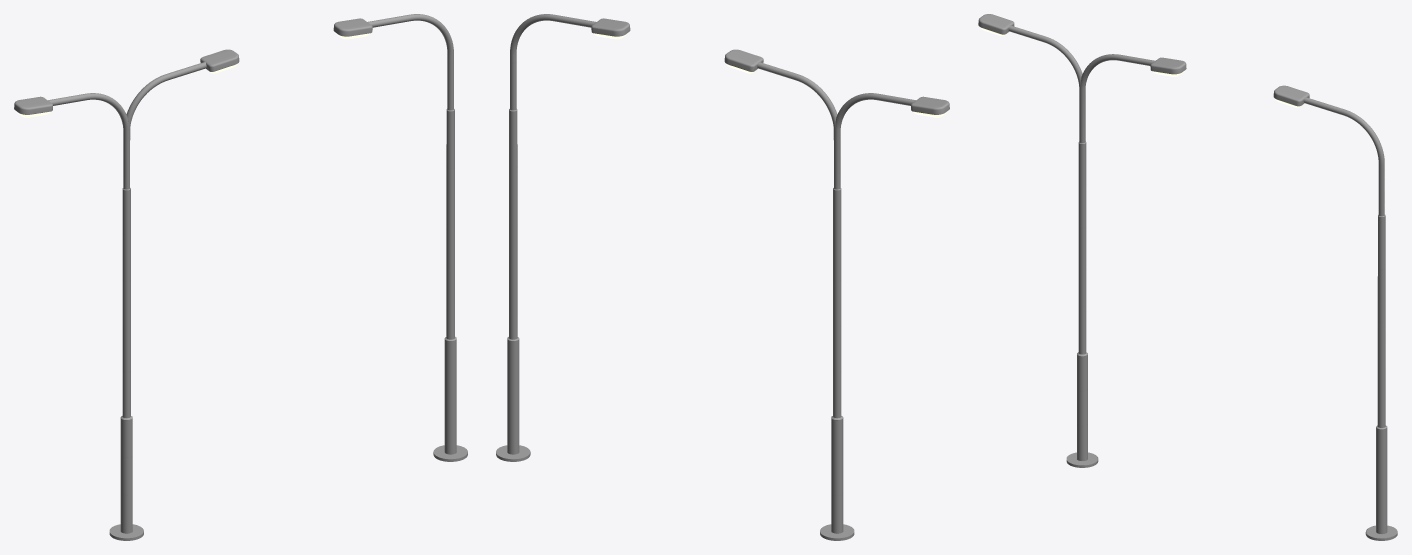
Rendered from StreetLightPoles.fbx.
The picture shows the model from 3 angles, left to right: view 1: azimuth 30°, elevation 25°; view 2: azimuth 150°, elevation 25°; view 3: azimuth 330°, elevation 25°; orthographic projection. The views are drawn at different scales.
Visible parts, largest first — view 1: Double_arm, Single_arm; view 2: Double_arm, Single_arm; view 3: Double_arm, Single_arm.
Boxes of the visible parts, x1,y1,x2,y2 form: Double_arm: (14, 49, 239, 540); Single_arm: (333, 14, 467, 461); Double_arm: (724, 49, 949, 540); Single_arm: (496, 14, 630, 461); Double_arm: (978, 14, 1186, 467); Single_arm: (1273, 85, 1397, 540).
Size of the model in its own units: 715 by 47.57 by 694.
